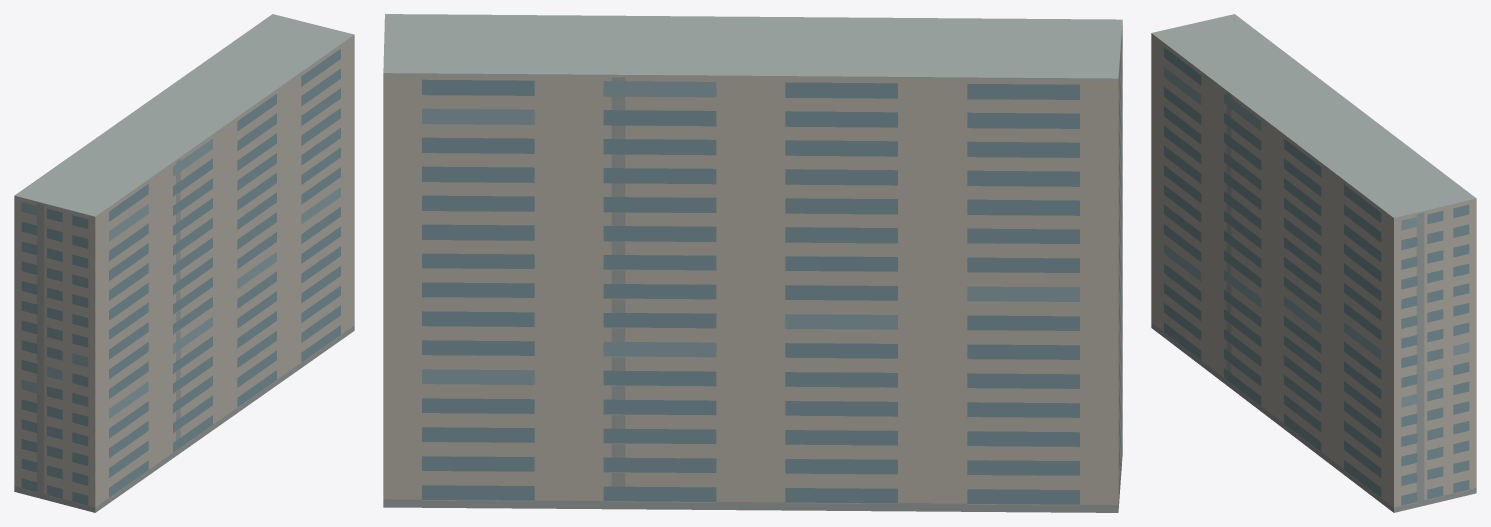
Rendered from residential-f56001c7-25f5-4b68-8ce7-bfbc54239425.glb.
3 views of the same model, side by side, from view 1: azimuth 30°, elevation 25°; view 2: azimuth 150°, elevation 25°; view 3: azimuth 270°, elevation 25° (orthographic). The views are drawn at different scales.
Parts seen in each view (by area): view 1: residential-f56001c7-25f5-4b68-8ce7-bfbc54239425.tmp; view 2: residential-f56001c7-25f5-4b68-8ce7-bfbc54239425.tmp; view 3: residential-f56001c7-25f5-4b68-8ce7-bfbc54239425.tmp.
Part boxes in pixels (x1=…): residential-f56001c7-25f5-4b68-8ce7-bfbc54239425.tmp: x1=14, y1=14, x2=354, y2=512; residential-f56001c7-25f5-4b68-8ce7-bfbc54239425.tmp: x1=383, y1=14, x2=1122, y2=512; residential-f56001c7-25f5-4b68-8ce7-bfbc54239425.tmp: x1=1151, y1=14, x2=1476, y2=512.
Bounding box in the file's own units: 62.36 × 42 × 42.01.
